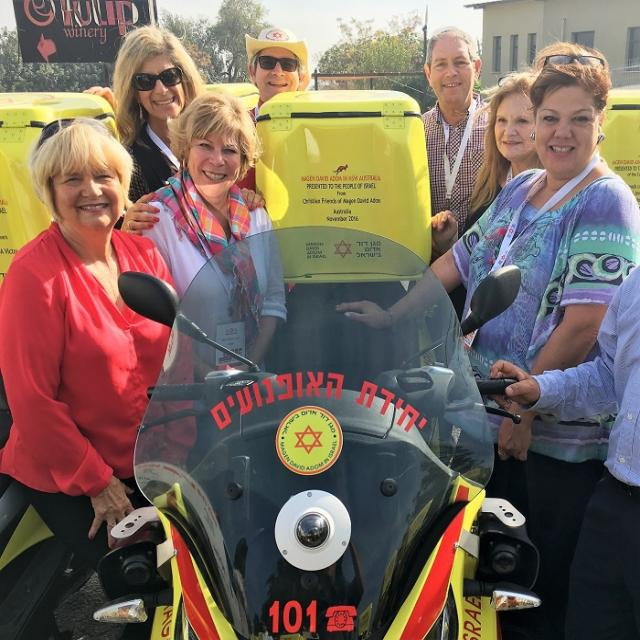body: (329, 40, 639, 639), (0, 113, 202, 576), (485, 141, 639, 634), (133, 89, 288, 409), (109, 23, 268, 239), (421, 25, 494, 469), (428, 67, 548, 257), (109, 25, 207, 237)
